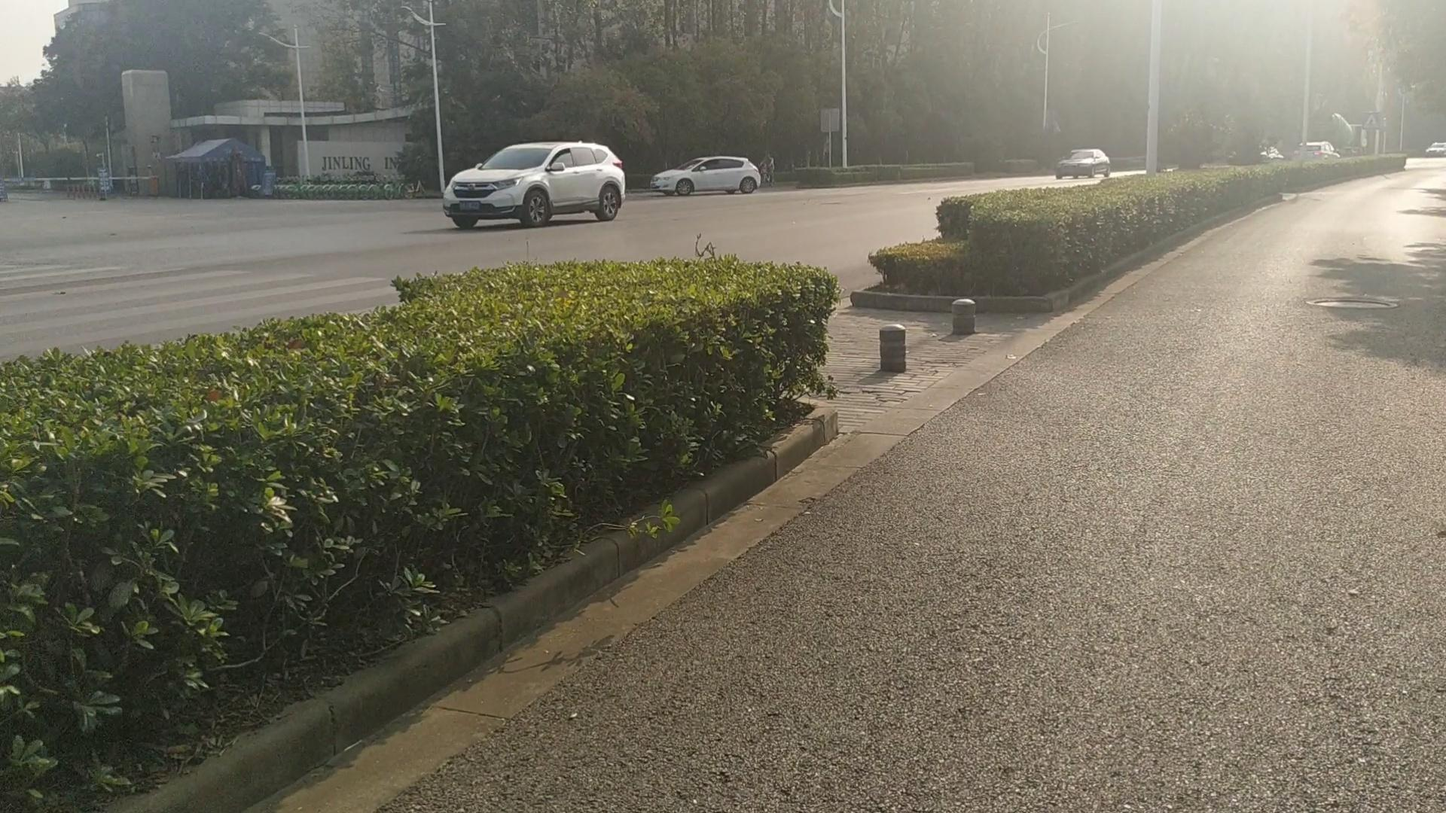car: (442, 142, 626, 228), (648, 155, 764, 196), (1054, 147, 1112, 181), (1295, 141, 1340, 160), (1257, 144, 1286, 161), (1420, 140, 1446, 157)
